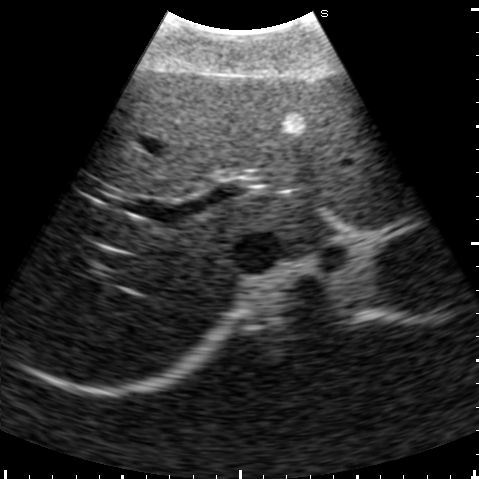IVC: (232, 234, 281, 274)
S1: (245, 195, 322, 241)
S2: (320, 183, 418, 229)
S3: (235, 73, 404, 192)
S4: (94, 73, 299, 196)
Tumor: (279, 113, 306, 134)
